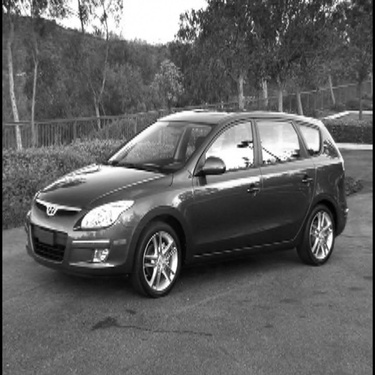car: (27, 75, 353, 284)
